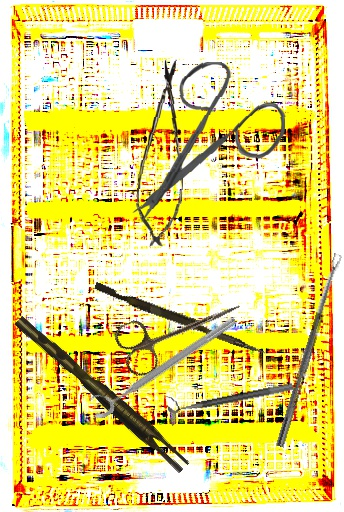Fixation Ring: (83, 305, 240, 423), (165, 372, 294, 415)
Iris Scissors: (131, 58, 289, 230), (111, 278, 250, 381)
Micro Scissor: (133, 54, 192, 253)
Pusher: (92, 282, 269, 356)
Surgical Spoon: (275, 253, 344, 448)
Tissue Forceps: (14, 307, 191, 479)
